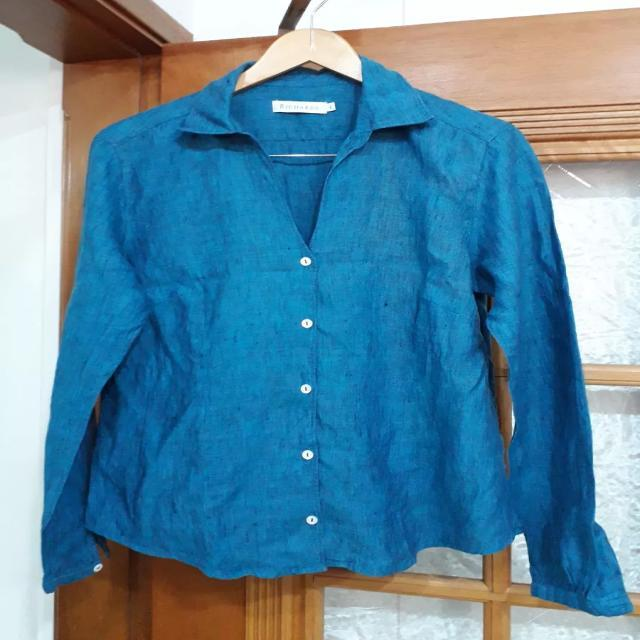long sleeve shirt: (39, 55, 635, 618)
